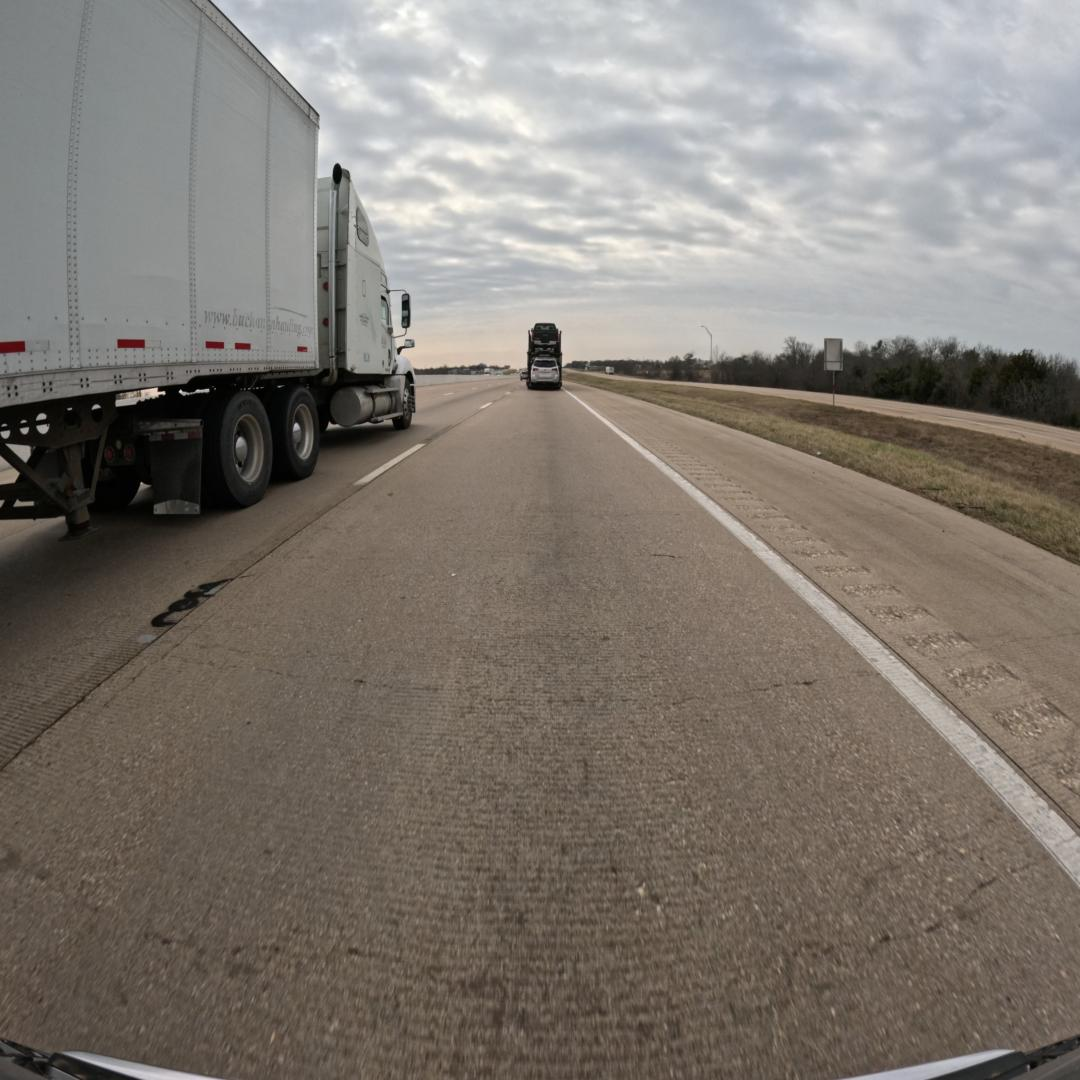lane0: (0, 391, 1080, 1076)
lane1: (0, 377, 520, 770)
